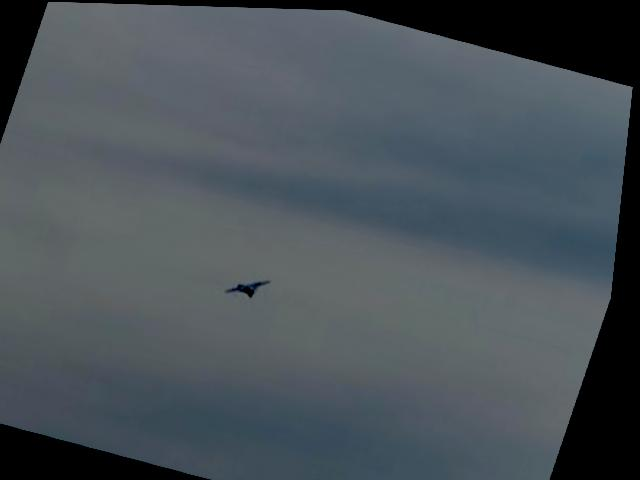uav: (226, 264, 278, 300)
